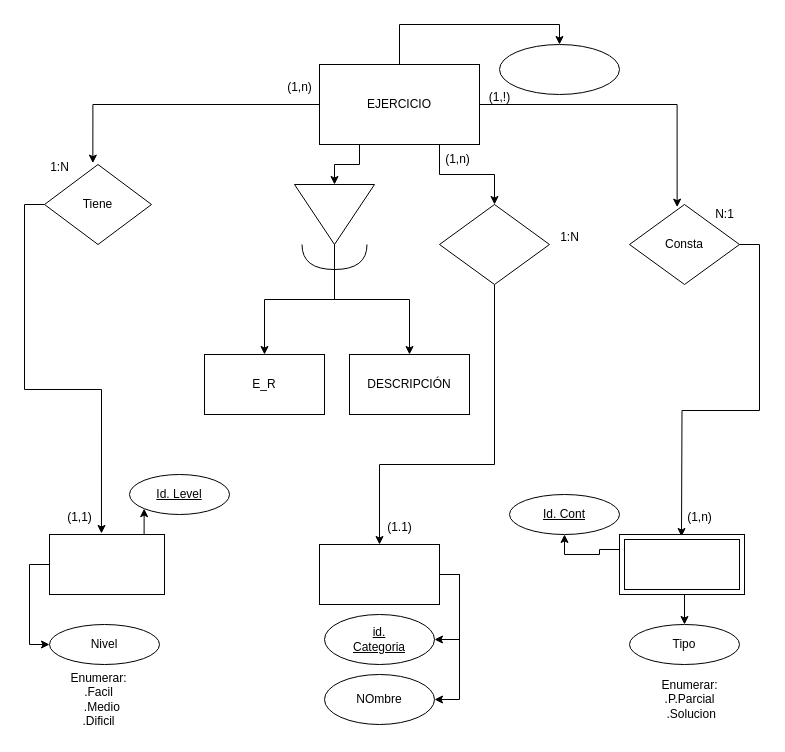
Some shapes in this 785 by 752 pixel diagram are drawn without their labels. Each missing label, with the centre of its shape:
CATEGORÍA: point 379,574
CONTENIDO: point 681,564
id. ejercicio: point 559,69
Is a: point 334,214
Nivel Dificultad: point 106,564
Pertenece: point 494,244
